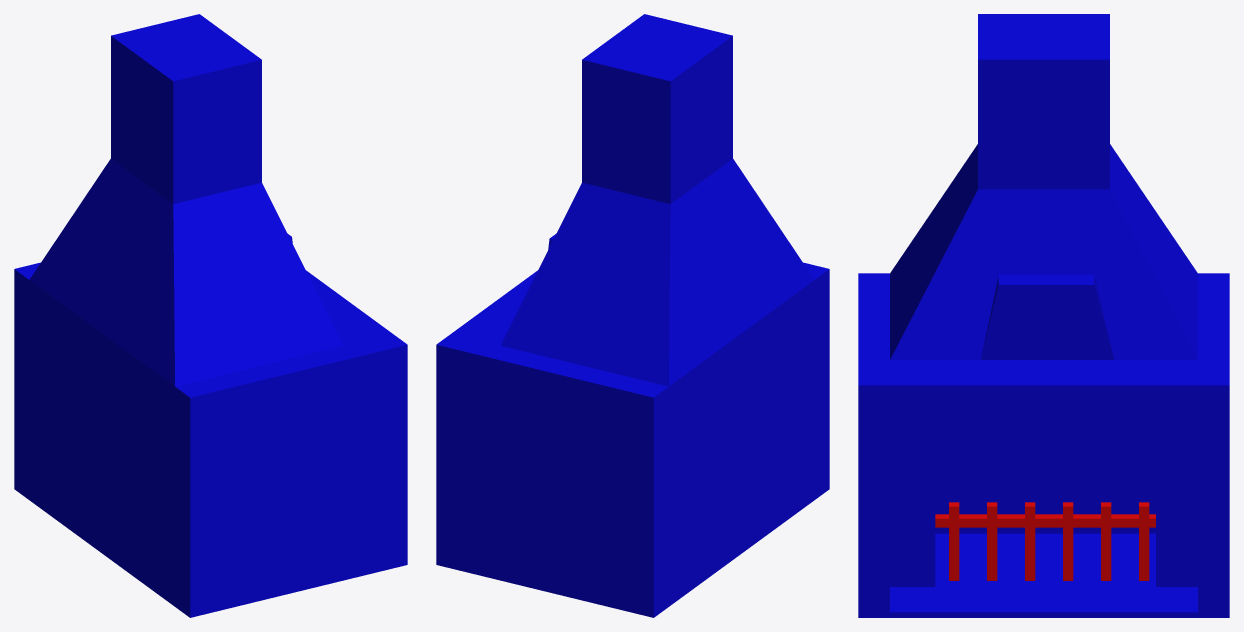
The model's file is cHEMINER.fbx.
3 renders of one model, left to right at view 1: azimuth 30°, elevation 25°; view 2: azimuth 150°, elevation 25°; view 3: azimuth 270°, elevation 25°, orthographic. The views are drawn at different scales.
Parts seen in each view (by area): view 1: Cheminer.001; view 2: Cheminer.001; view 3: Cheminer.001, Barreau.001.
Part boxes in pixels (box(x1,y1,x2,y2)): Cheminer.001: box(14, 14, 407, 617); Cheminer.001: box(436, 14, 829, 617); Cheminer.001: box(858, 14, 1229, 617); Barreau.001: box(935, 502, 1155, 580).
Bounding box in the file's own units: 258 × 551 × 362.
